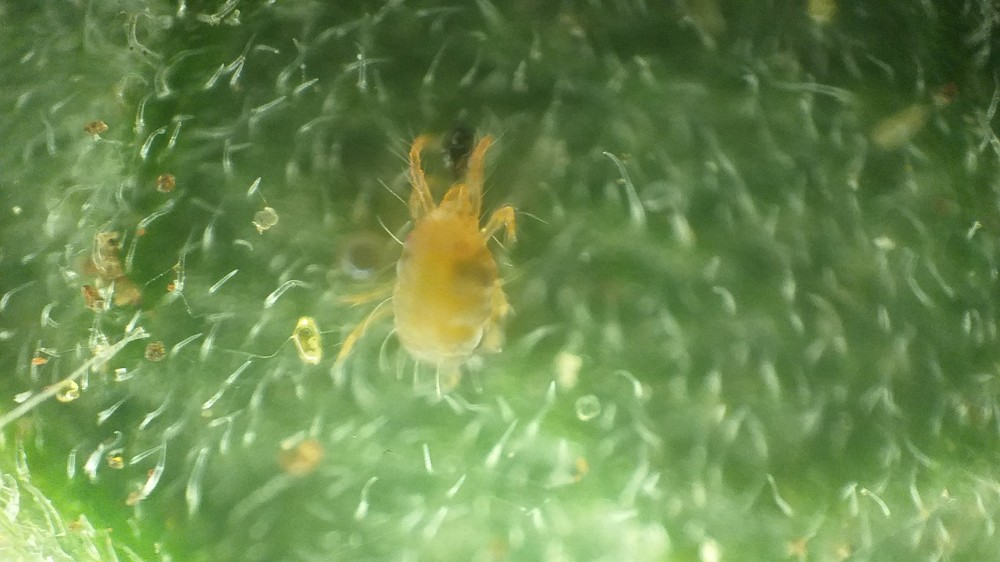Aracnido Rojo: (321, 129, 560, 433)
